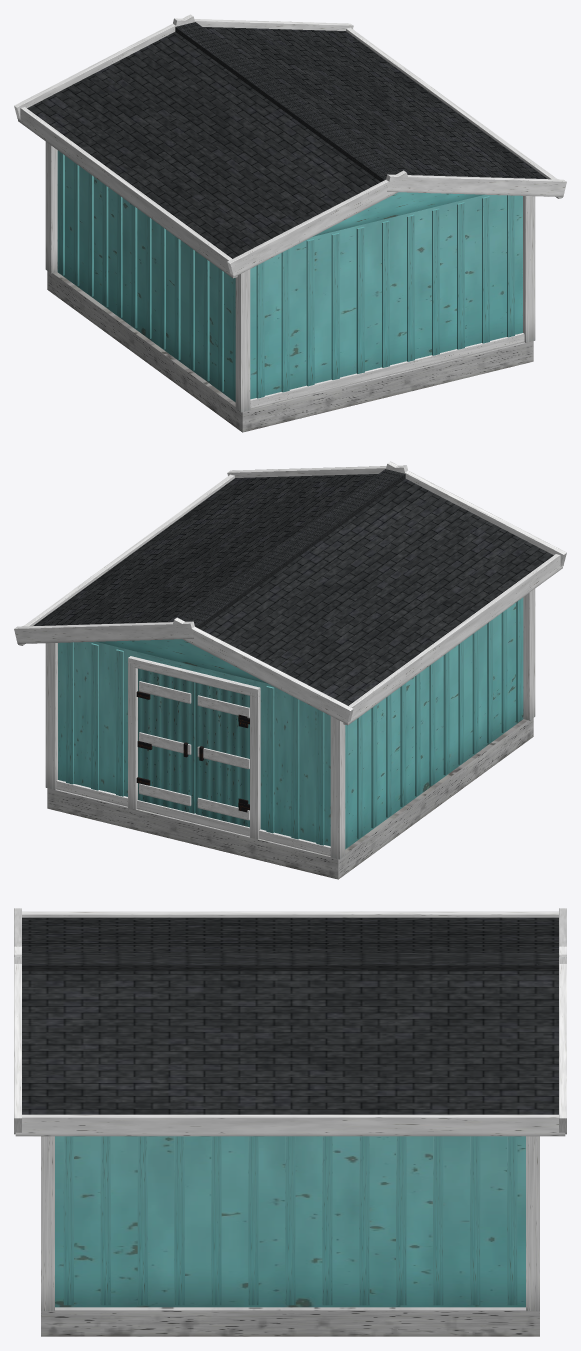
The model's file is shed.glb.
The picture shows the model from 3 angles, top to bottom: view 1: azimuth 30°, elevation 25°; view 2: azimuth 150°, elevation 25°; view 3: azimuth 270°, elevation 25°; orthographic projection. The views are drawn at different scales.
Parts seen in each view (by area): view 1: Roof_L, Wall_Rear, Roof_R, Wall_W, Foundation, RidgeCap, FasciaEave_-1, Barge_L_-1, Barge_R_-1, Skirt_R, CornerTrim_-1-1, Gable_Rear (+28 smaller); view 2: Roof_L, Roof_R, Wall_W, Foundation, Wall_Front_L, Wall_Front_R, Door_R, Door_L, RidgeCap, FasciaEave_-1, Barge_L_1, Barge_R_1 (+36 smaller); view 3: Roof_R, Wall_E, Roof_L, Foundation, FasciaEave_1, RidgeCap, FasciaEave_-1, CornerTrim_1-1, CornerTrim_11, Batten_E_-3, Batten_E_-2, Batten_E_-1 (+12 smaller).
Part boxes in pixels (x1,y1,x2,y2): Roof_L: (27, 31, 380, 258); Wall_Rear: (250, 194, 522, 399); Roof_R: (203, 27, 547, 178); Wall_W: (57, 150, 235, 402); Foundation: (47, 271, 533, 432); RidgeCap: (175, 22, 399, 181); FasciaEave_-1: (18, 107, 237, 278); Barge_L_-1: (227, 170, 407, 277); Barge_R_-1: (386, 174, 566, 196); Skirt_R: (250, 333, 524, 408); CornerTrim_-1-1: (235, 269, 250, 412); Gable_Rear: (313, 192, 484, 236); Roof_L: (200, 478, 553, 705); Roof_R: (33, 474, 377, 625); Wall_W: (345, 597, 523, 849); Foundation: (47, 718, 533, 879); Wall_Front_L: (254, 680, 330, 846); Wall_Front_R: (58, 641, 136, 796); Door_R: (138, 668, 195, 813); Door_L: (195, 683, 249, 827); RidgeCap: (181, 469, 405, 628); FasciaEave_-1: (343, 554, 562, 725); Barge_L_1: (173, 617, 353, 724); Barge_R_1: (14, 621, 194, 643); Roof_R: (22, 971, 558, 1114); Wall_E: (55, 1136, 525, 1307); Roof_L: (22, 917, 558, 952); Foundation: (41, 1307, 539, 1336); FasciaEave_1: (15, 1114, 565, 1136); RidgeCap: (22, 952, 558, 971); FasciaEave_-1: (22, 911, 558, 917); CornerTrim_1-1: (41, 1136, 54, 1311); CornerTrim_11: (526, 1136, 539, 1311); Batten_E_-3: (174, 1136, 184, 1305); Batten_E_-2: (211, 1136, 221, 1305); Batten_E_-1: (248, 1136, 258, 1305).
Bounding box in the file's own units: 4.3 × 2.81 × 4.79.
Materials: 1 (1 with a texture image).
